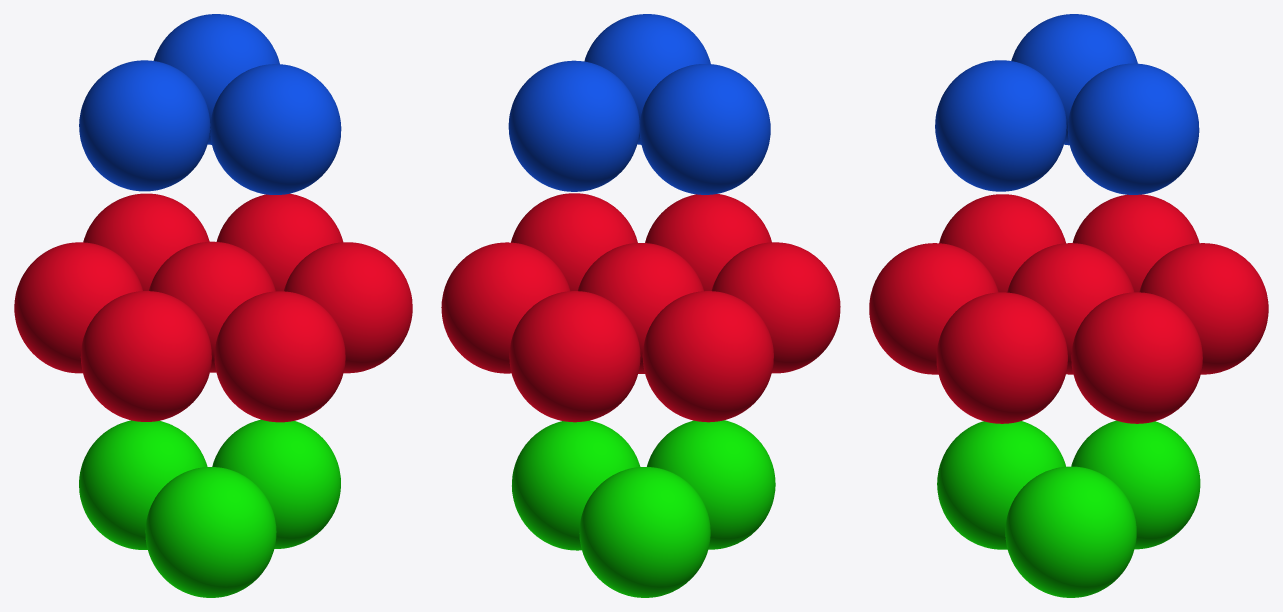
The model's file is 3-D[hexagonal(ABCABC)] extended .glb.
3 views of the same model, side by side, from view 1: azimuth 30°, elevation 25°; view 2: azimuth 150°, elevation 25°; view 3: azimuth 270°, elevation 25° (orthographic).
Parts seen in each view (by area): view 1: Sphere.007, Sphere.010, Sphere.002, Sphere.012, Sphere.008, Sphere.006, Sphere.009, Sphere, Sphere.001, Sphere.003, Sphere.005, Sphere.004 (+1 smaller); view 2: Sphere.004, Sphere, Sphere.010, Sphere.011, Sphere.009, Sphere.005, Sphere.008, Sphere.001, Sphere.002, Sphere.006, Sphere.007, Sphere.003 (+1 smaller); view 3: Sphere.005, Sphere.012, Sphere.006, Sphere.001, Sphere.011, Sphere.007, Sphere.004, Sphere.002, Sphere, Sphere.003, Sphere.008, Sphere.010 (+1 smaller).
Part boxes in pixels (box(x1,y1,x2,y2)): Sphere.007: box(214, 291, 345, 422); Sphere.010: box(79, 60, 210, 191); Sphere.002: box(145, 467, 276, 597); Sphere.012: box(210, 64, 341, 194); Sphere.008: box(80, 291, 211, 421); Sphere.006: box(284, 242, 412, 373); Sphere.009: box(14, 242, 142, 373); Sphere: box(79, 420, 207, 549); Sphere.001: box(212, 419, 340, 548); Sphere.003: box(149, 241, 275, 372); Sphere.005: box(216, 193, 343, 291); Sphere.004: box(83, 193, 209, 290); Sphere.004: box(509, 291, 640, 422); Sphere: box(579, 467, 710, 597); Sphere.010: box(639, 64, 770, 194); Sphere.011: box(508, 60, 639, 191); Sphere.009: box(642, 291, 773, 422); Sphere.005: box(441, 242, 570, 373); Sphere.008: box(711, 242, 840, 373); Sphere.001: box(512, 420, 640, 550); Sphere.002: box(647, 420, 775, 549); Sphere.006: box(511, 193, 637, 291); Sphere.007: box(645, 194, 771, 291); Sphere.003: box(578, 243, 703, 373); Sphere.005: box(1071, 292, 1202, 423); Sphere.012: box(935, 60, 1066, 191); Sphere.006: box(936, 292, 1067, 423); Sphere.001: box(1005, 466, 1136, 597); Sphere.011: box(1067, 63, 1199, 194); Sphere.007: box(869, 243, 998, 374); Sphere.004: box(1139, 243, 1268, 374); Sphere.002: box(937, 421, 1065, 549); Sphere: box(1071, 420, 1200, 549); Sphere.003: box(1007, 243, 1134, 374); Sphere.008: box(939, 194, 1065, 292); Sphere.010: box(1011, 14, 1137, 145).
Size of the model in its own units: 5.53 by 8.53 by 6.07.
